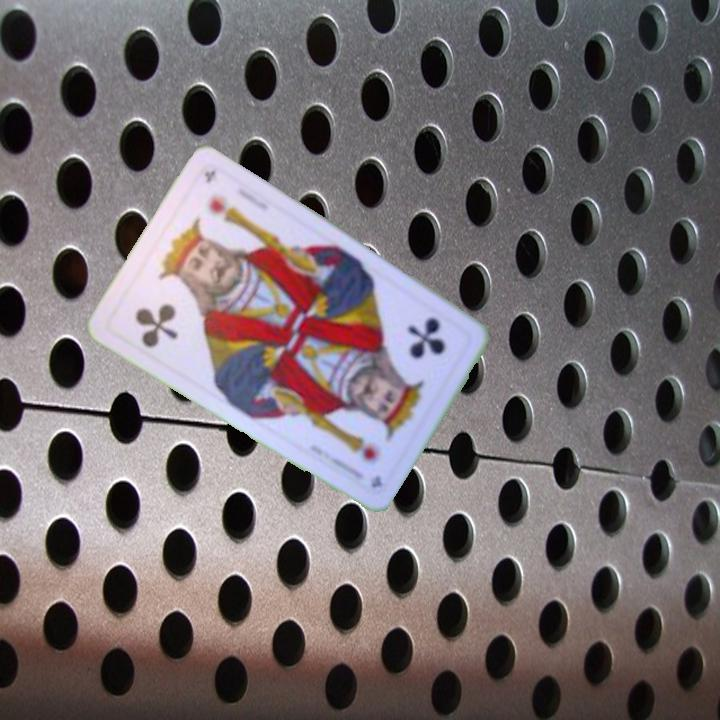c_k.png: (103, 242, 227, 370), (353, 287, 476, 415)
